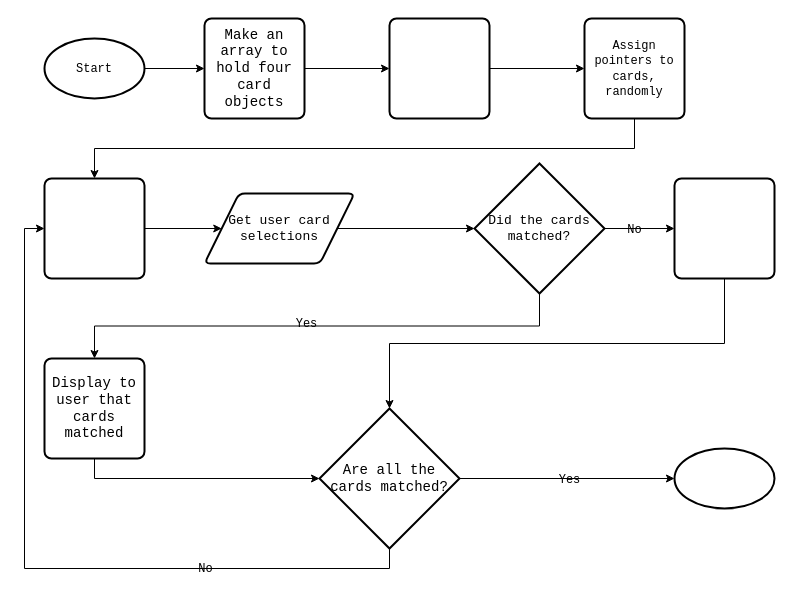
This 793x594 diagram has some shape labels left out. Each missing label, with the box of its shape:
Display both unmatched and matched cards: (43, 177, 145, 279)
Display selected card names: (673, 177, 775, 279)
End Game: (673, 447, 775, 509)
Make an array to hold eight pointers to card objects: (388, 17, 490, 119)
